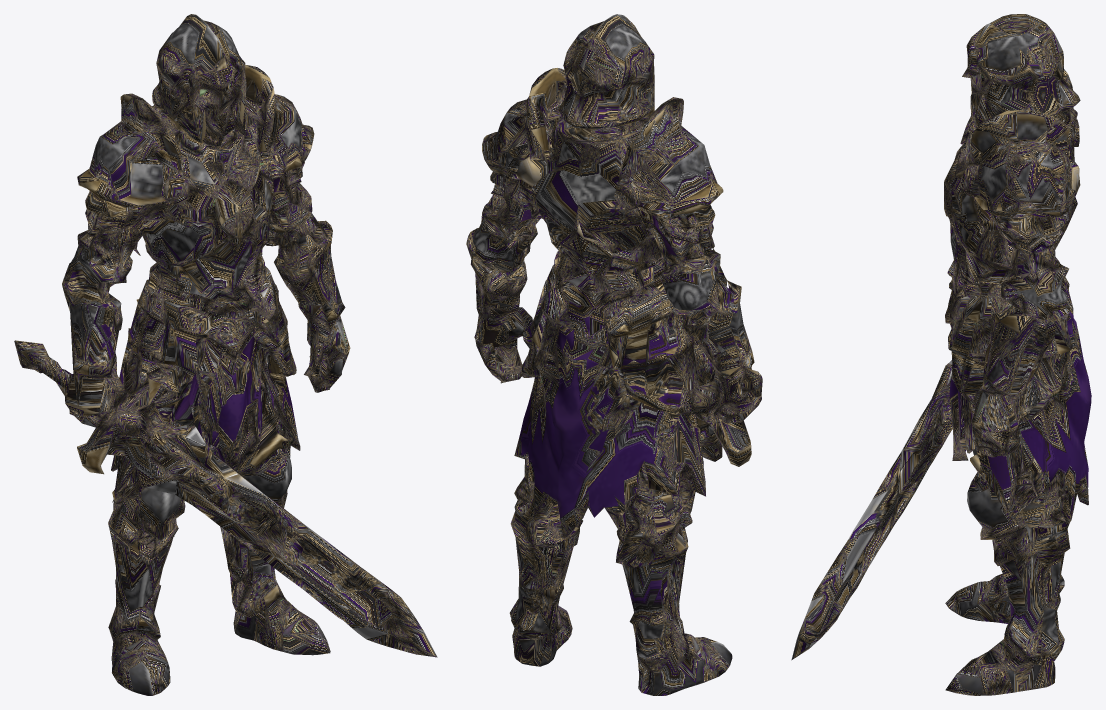
The model's file is crypt_sovereign.glb.
3 views of the same model, side by side, from view 1: azimuth 30°, elevation 25°; view 2: azimuth 150°, elevation 25°; view 3: azimuth 270°, elevation 25° (orthographic). The views are drawn at different scales.
Parts seen in each view (by area): view 1: Mesh_0; view 2: Mesh_0; view 3: Mesh_0.
Boxes of the visible parts, x1,y1,x2,y2 form: Mesh_0: (14,14,437,695); Mesh_0: (466,14,762,695); Mesh_0: (791,14,1091,695).
Bounding box in the file's own units: 0.9444 × 1.9 × 0.8115.
Materials: 1 (1 with a texture image).
